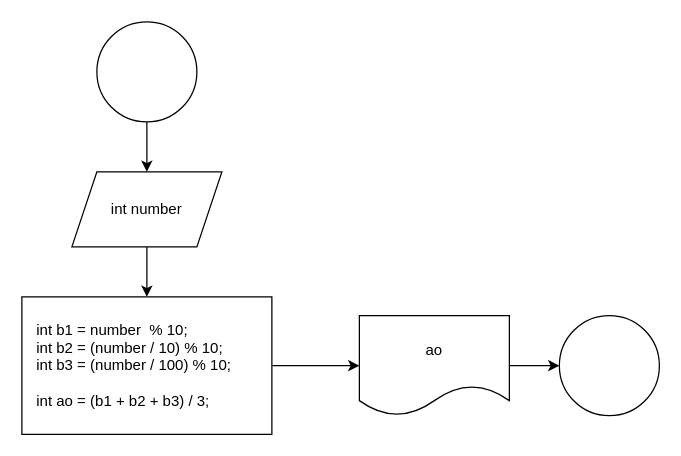
Some shapes in this 681 by 456 pixel diagram are drawn without their labels. The centre of each missing label's shape, as x and y in pixels:
"Start" goes at [146,71].
"Stop" goes at [608,365].
